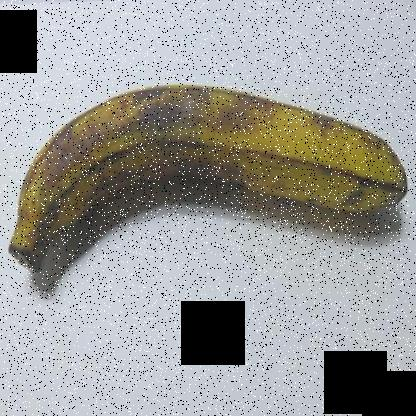overripe: (5, 63, 415, 284)
